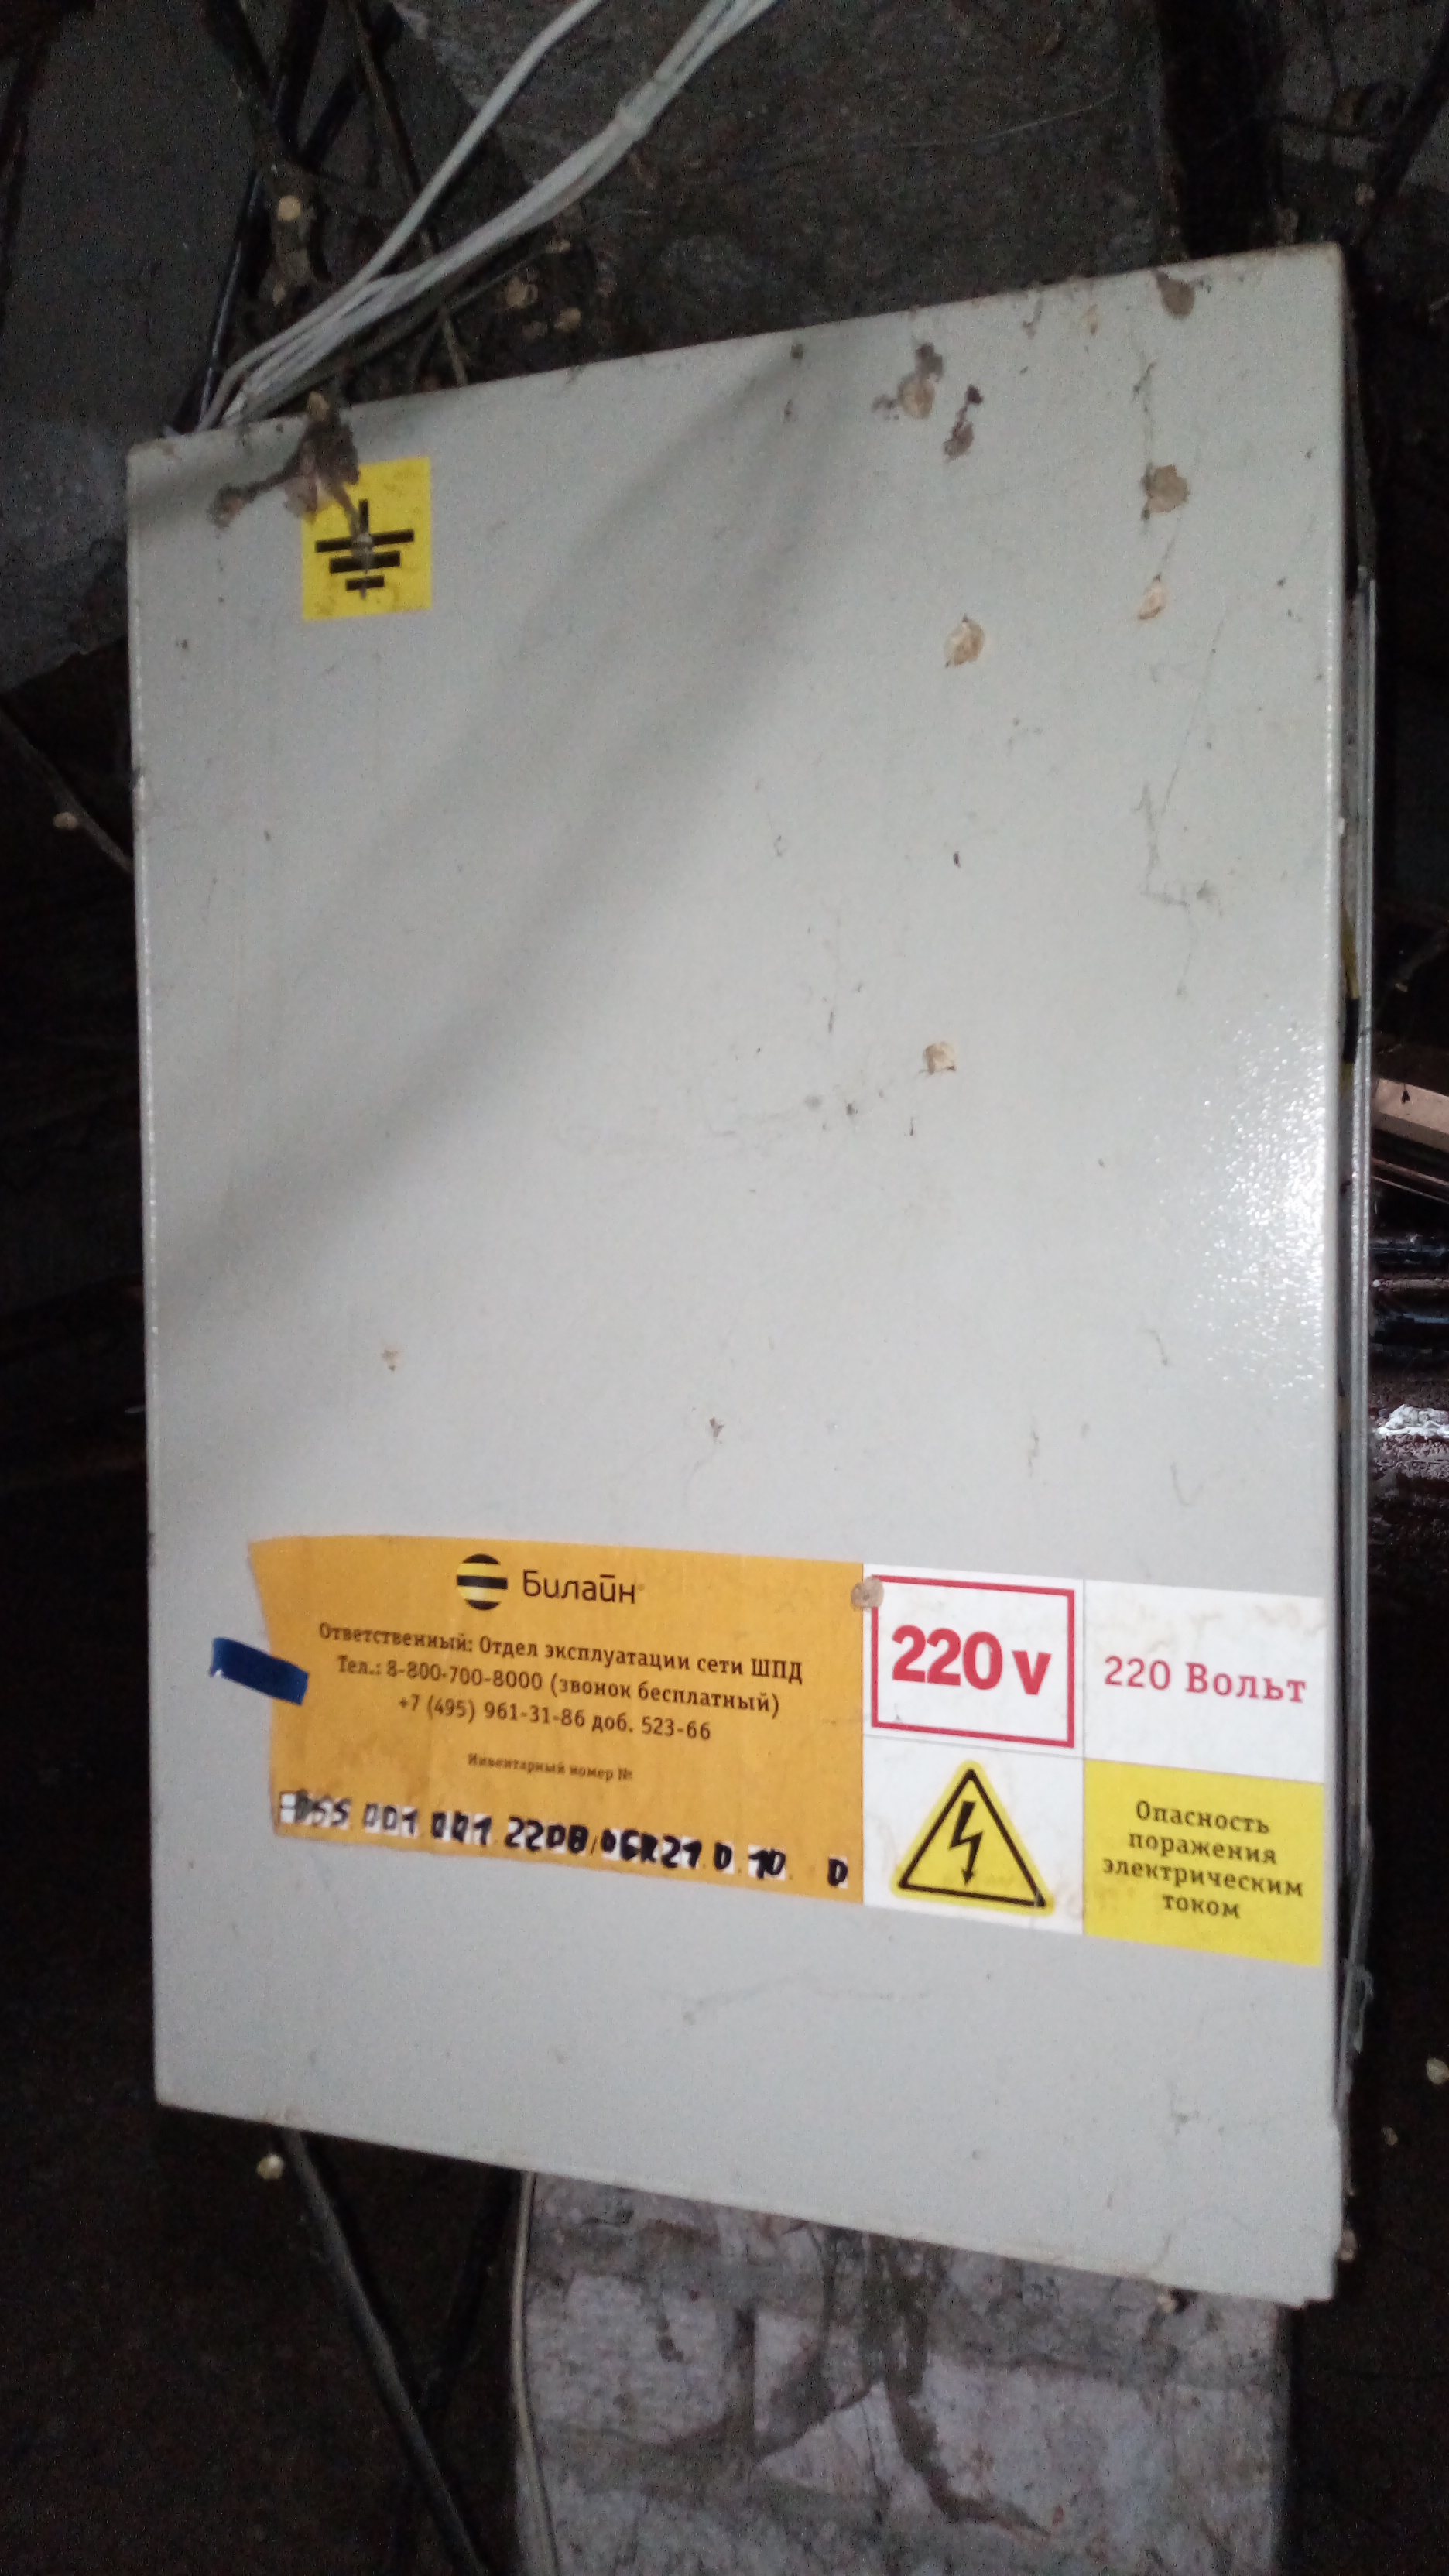sv-5: (99, 205, 1405, 2327)
